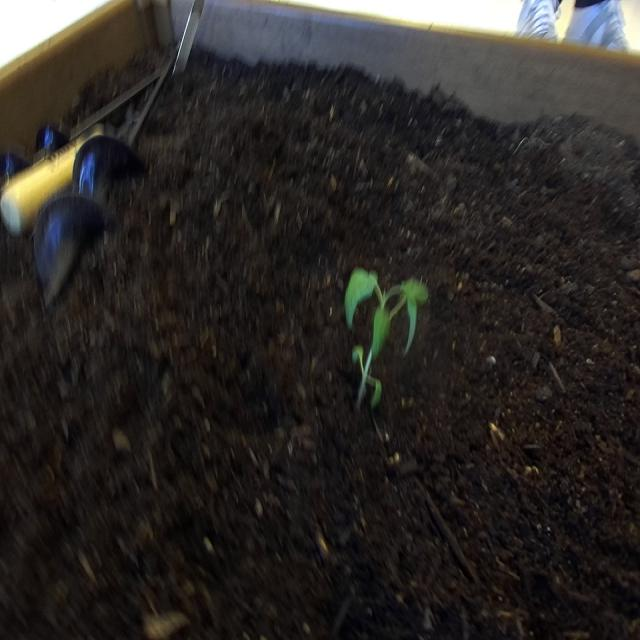Healthy: (338, 257, 434, 422)
